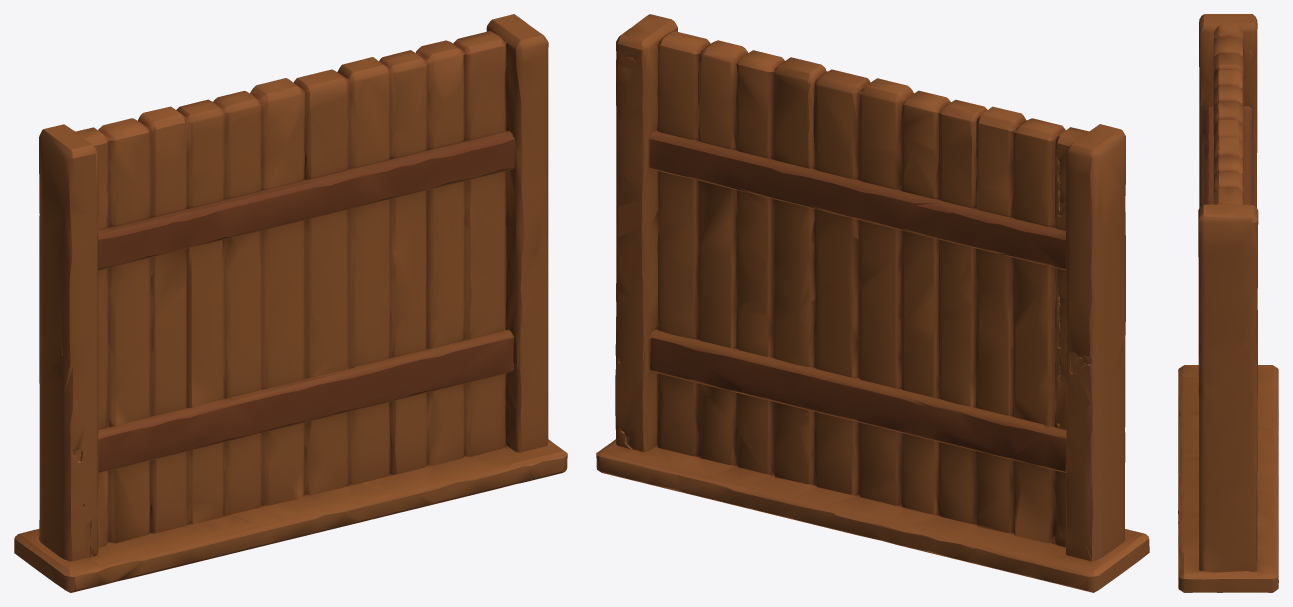
The model's file is PROP_C1_WALL.glb.
3 renders of one model, left to right at view 1: azimuth 30°, elevation 25°; view 2: azimuth 150°, elevation 25°; view 3: azimuth 270°, elevation 25°, orthographic. The views are drawn at different scales.
Parts seen in each view (by area): view 1: world; view 2: world; view 3: world.
Part boxes in pixels (<box>): world: <box>14,14,567,592</box>; world: <box>596,14,1149,592</box>; world: <box>1178,14,1278,592</box>.
Bounding box in the file's own units: 1 × 0.8245 × 0.2004.
1 material, 1 textured.
